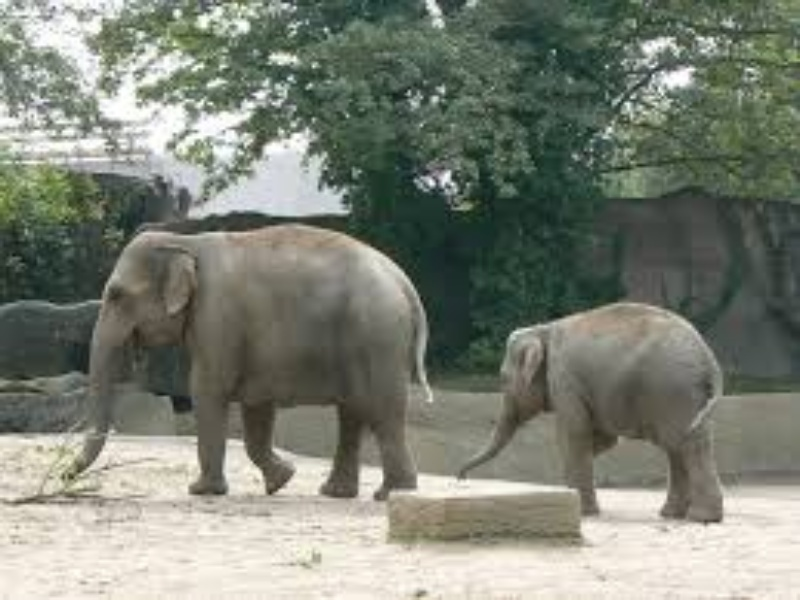elephant: (65, 214, 449, 488), (457, 249, 791, 534)
